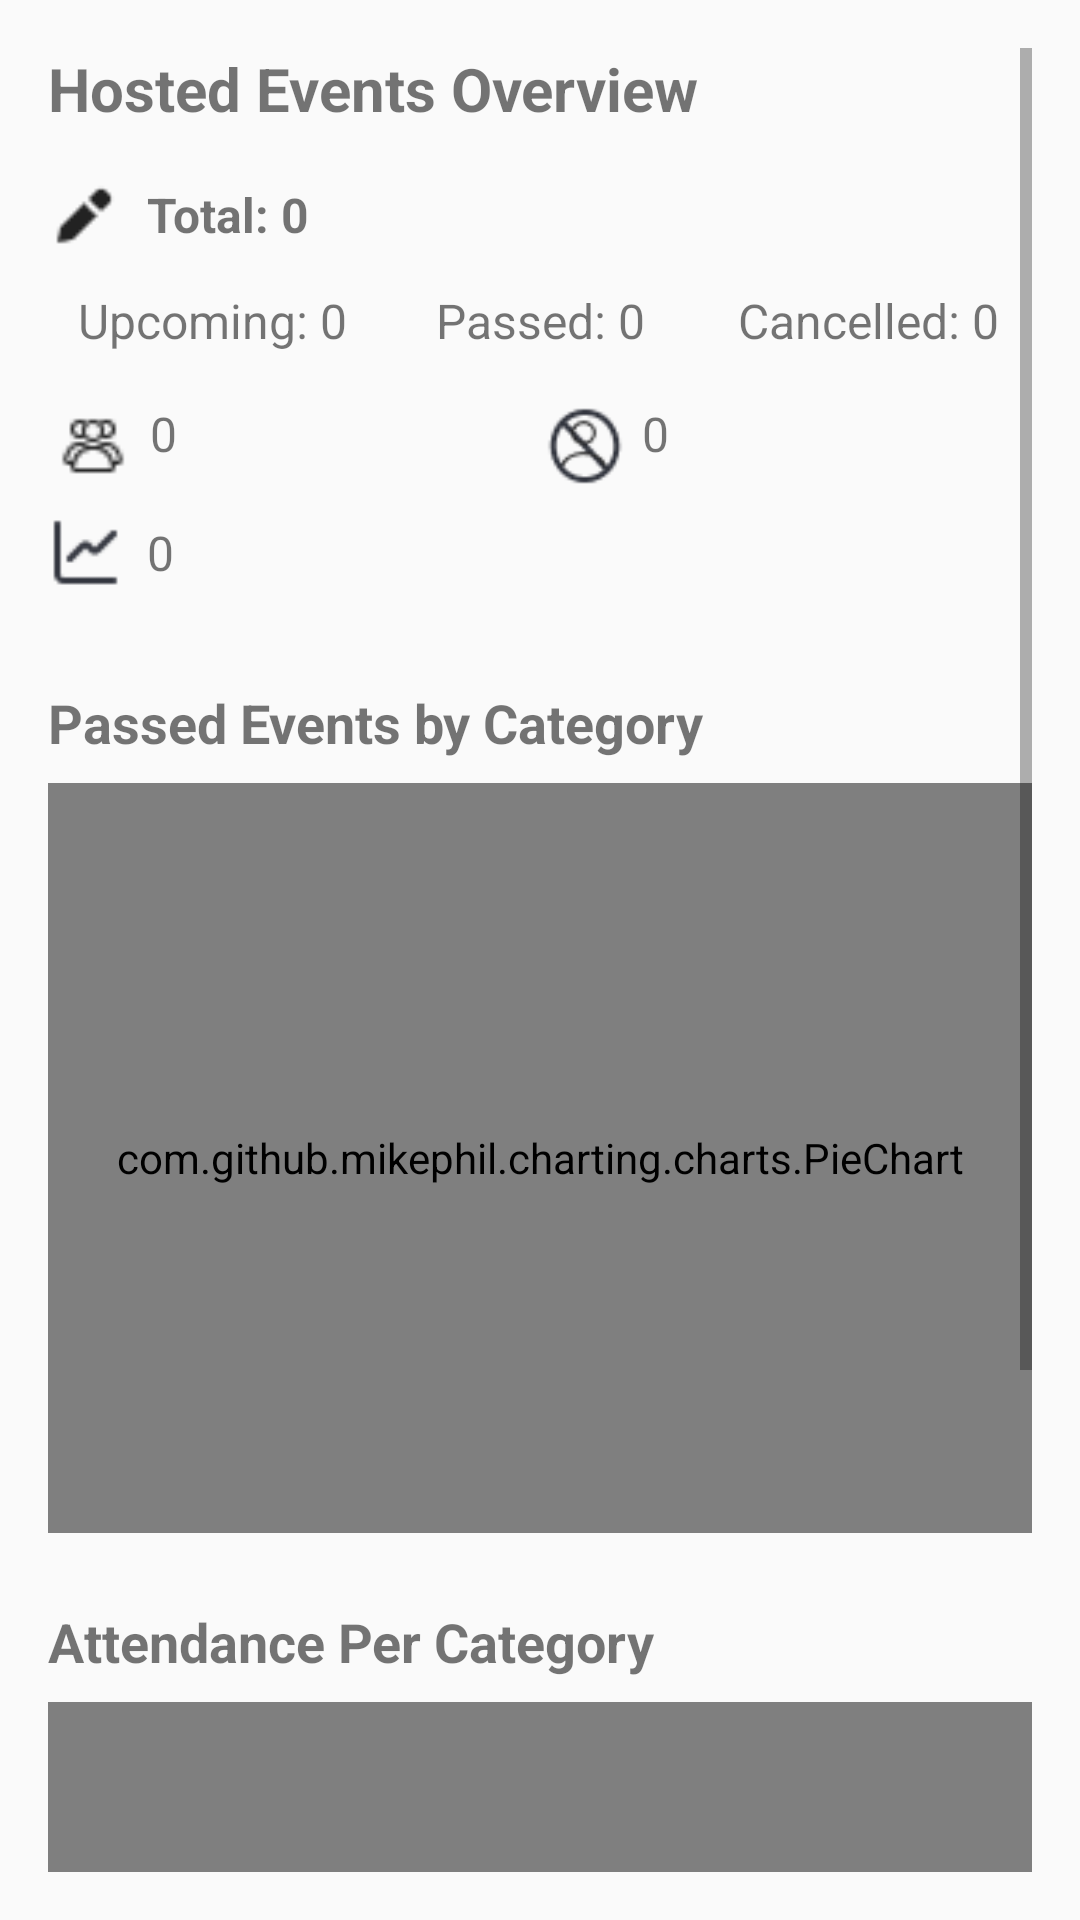

Where icons sit on this 1080x1920 app screen, as bbox=(x1, y1, x2, y2):
Average attendees: bbox=(53, 520, 118, 585)
Total Attendees: bbox=(62, 418, 124, 474)
Total Cancelled: bbox=(548, 408, 622, 484)
